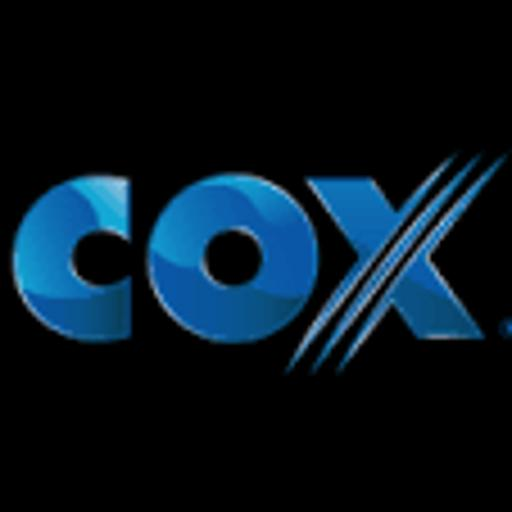Cox Communications: (0, 131, 512, 380)
